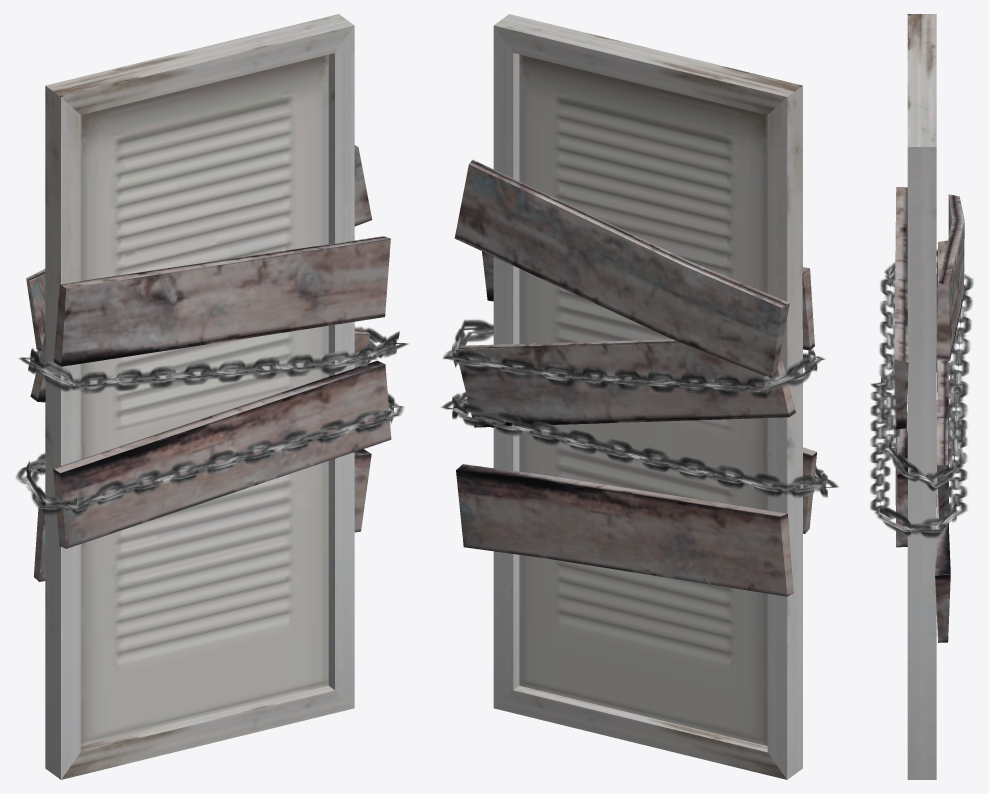
Rendered from door.glb.
The picture shows the model from 3 angles, left to right: view 1: azimuth 30°, elevation 25°; view 2: azimuth 150°, elevation 25°; view 3: azimuth 270°, elevation 25°; orthographic projection. The views are drawn at different scales.
Visible parts, largest first — view 1: door2, door_frame, chain; view 2: door2, door_frame, chain; view 3: door_frame, door2, chain.
Boxes of the visible parts, left/top/right/bottom form: door2: left=26, top=54, right=391, bottom=745; door_frame: left=45, top=14, right=354, bottom=779; chain: left=15, top=326, right=408, bottom=516; door2: left=454, top=54, right=816, bottom=746; door_frame: left=493, top=14, right=802, bottom=779; chain: left=441, top=319, right=838, bottom=497; door_frame: left=907, top=14, right=936, bottom=779; door2: left=894, top=187, right=964, bottom=642; chain: left=870, top=250, right=973, bottom=538.
Bounding box in the file's own units: 1.39 × 2.4 × 0.362.
3 materials, 3 textured.
